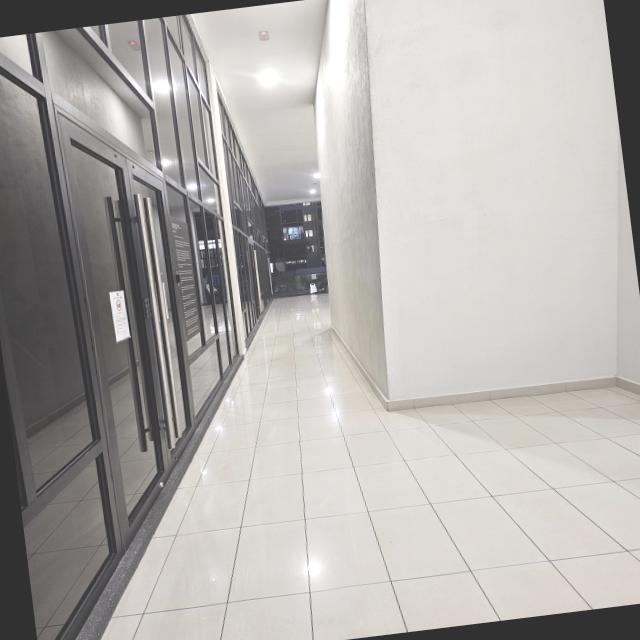door: (45, 93, 218, 521)
footpath: (255, 370, 640, 640), (252, 322, 357, 408)
